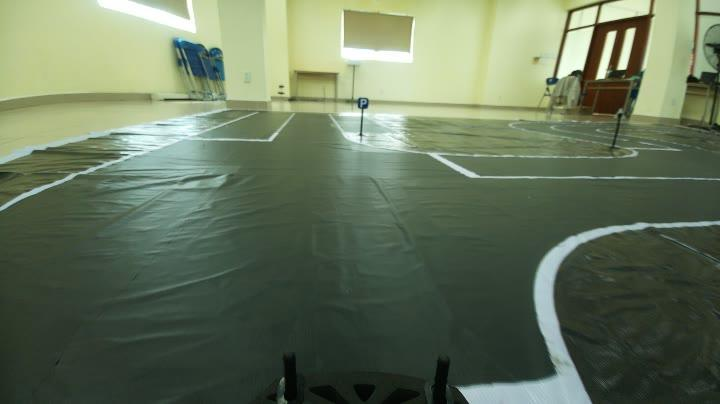parking: (353, 93, 371, 111)
